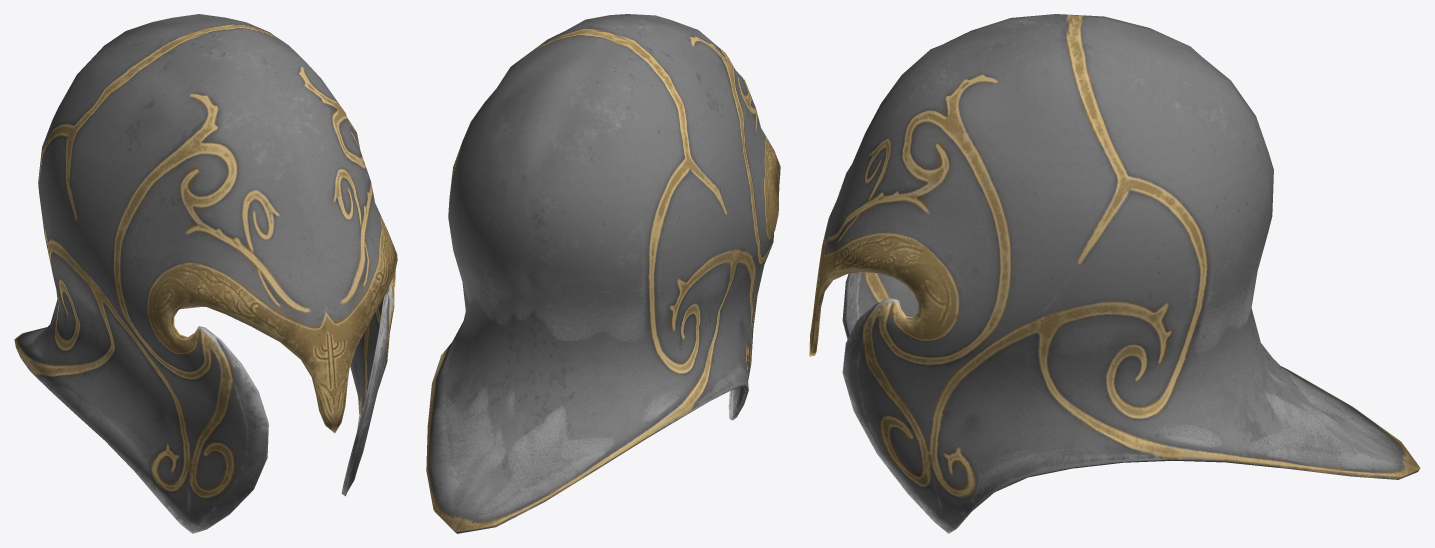
The model's file is rivendell_helmet_infantry_tier1_silvergold.fbx.
The picture shows the model from 3 angles, left to right: view 1: azimuth 30°, elevation 25°; view 2: azimuth 150°, elevation 25°; view 3: azimuth 270°, elevation 25°; orthographic projection. The views are drawn at different scales.
Parts seen in each view (by area): view 1: rivendell_helmet_infantry_tier1_silvergold; view 2: rivendell_helmet_infantry_tier1_silvergold; view 3: rivendell_helmet_infantry_tier1_silvergold.
Boxes of the visible parts, bbox=[...] form: rivendell_helmet_infantry_tier1_silvergold: bbox=[14, 14, 397, 533]; rivendell_helmet_infantry_tier1_silvergold: bbox=[426, 14, 780, 533]; rivendell_helmet_infantry_tier1_silvergold: bbox=[809, 14, 1420, 533].
Size of the model in its own units: 0.2002 by 0.3655 by 0.3098.
Materials: 1 (1 with a texture image).
